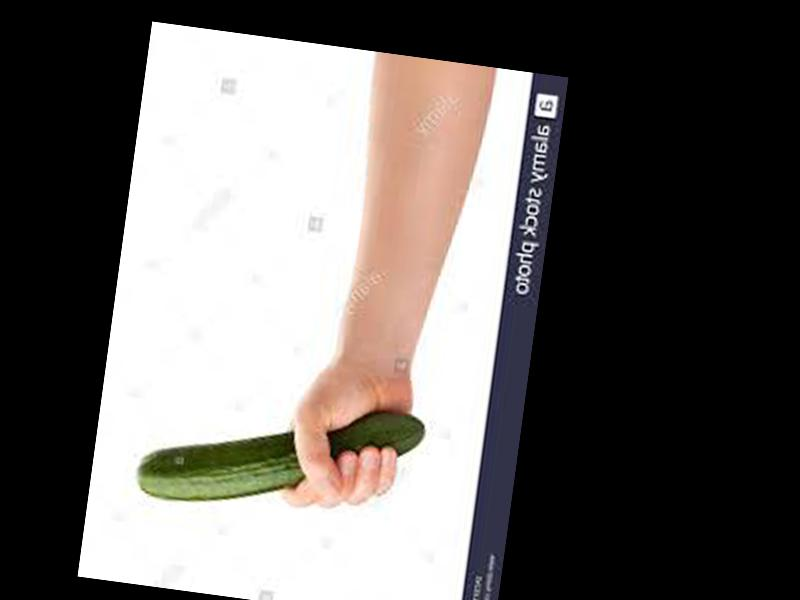Cucumber: (134, 381, 425, 533)
